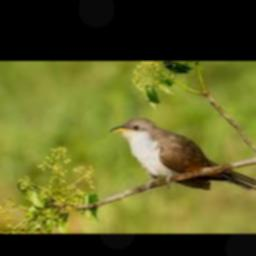Cuckoo: (109, 118, 256, 189)
